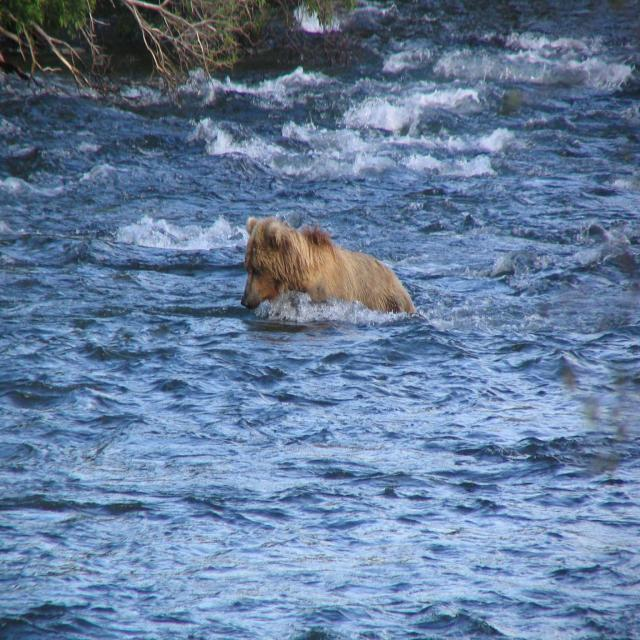bear face: (237, 216, 416, 312)
